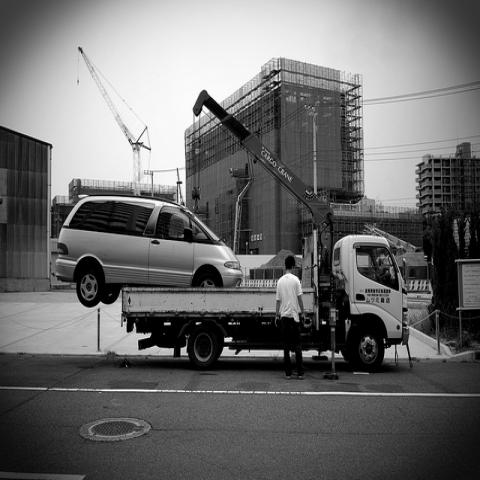car: (54, 192, 244, 309)
truck: (122, 92, 413, 377)
